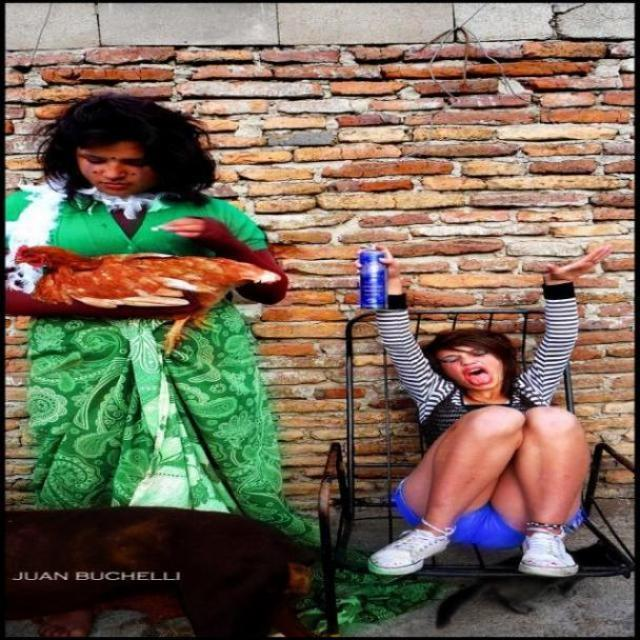Chicken: (9, 223, 258, 348)
